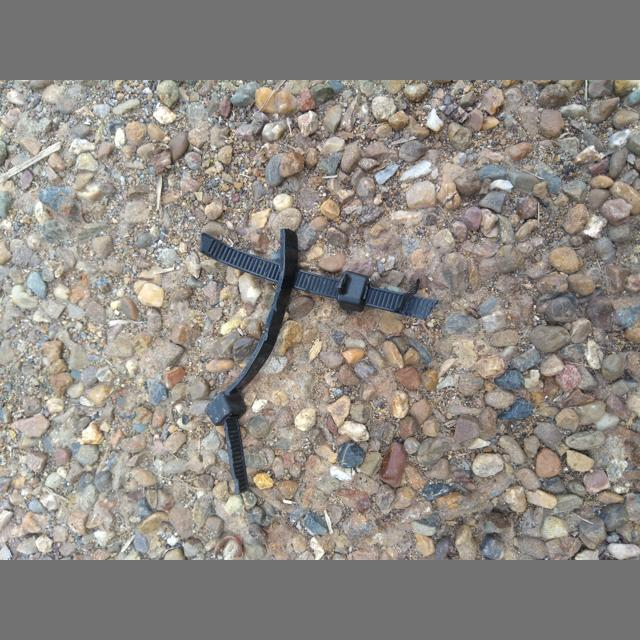litter: (204, 228, 298, 493), (199, 232, 439, 320)
